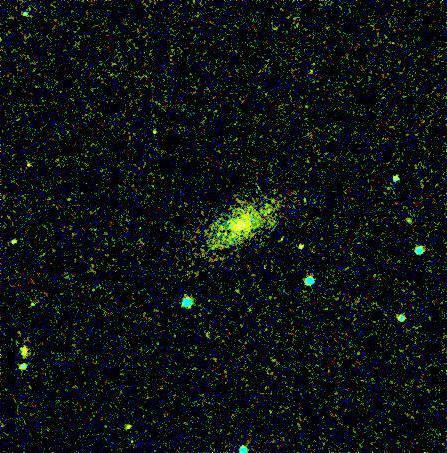star: (285, 232, 315, 262)
